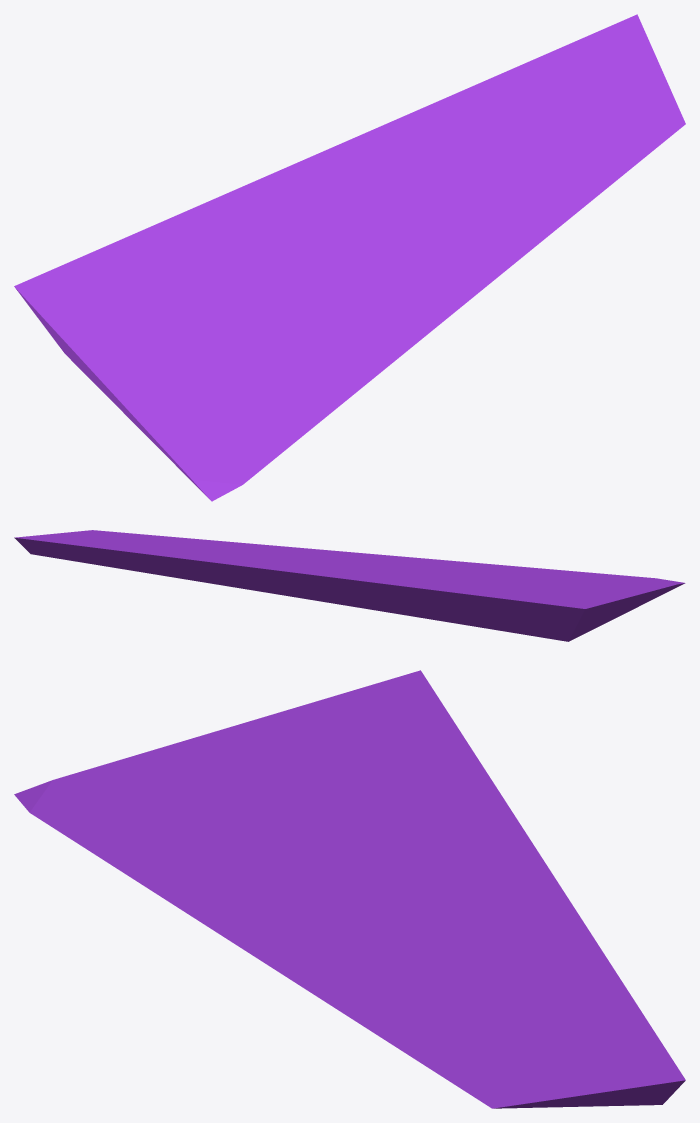
Rendered from Glass_100_3_18_chunks.fbx.
3 renders of one model, top to bottom at view 1: azimuth 30°, elevation 25°; view 2: azimuth 150°, elevation 25°; view 3: azimuth 270°, elevation 25°, orthographic. The views are drawn at different scales.
Parts seen in each view (by area): view 1: Glass_100_3_18_0; view 2: Glass_100_3_18_0; view 3: Glass_100_3_18_0.
Part boxes in pixels (left/top/right/bottom): Glass_100_3_18_0: left=14, top=14, right=685, bottom=501; Glass_100_3_18_0: left=14, top=530, right=685, bottom=641; Glass_100_3_18_0: left=14, top=670, right=685, bottom=1108.
Bounding box in the file's own units: 414 × 55.6 × 279.
